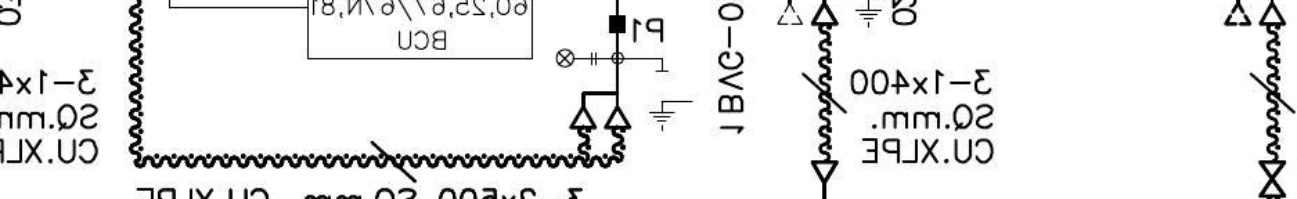22_gs: (647, 68, 694, 131)
22_ll: (555, 48, 598, 69)
terminator_double: (568, 90, 633, 131)
terminator_single: (809, 159, 840, 185)
terminator_splicing_kits: (1258, 160, 1287, 198)
